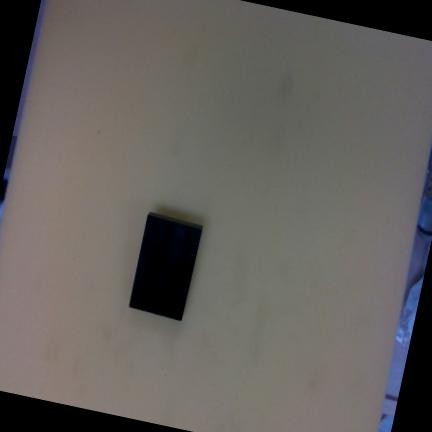tile: (127, 214, 203, 321)
